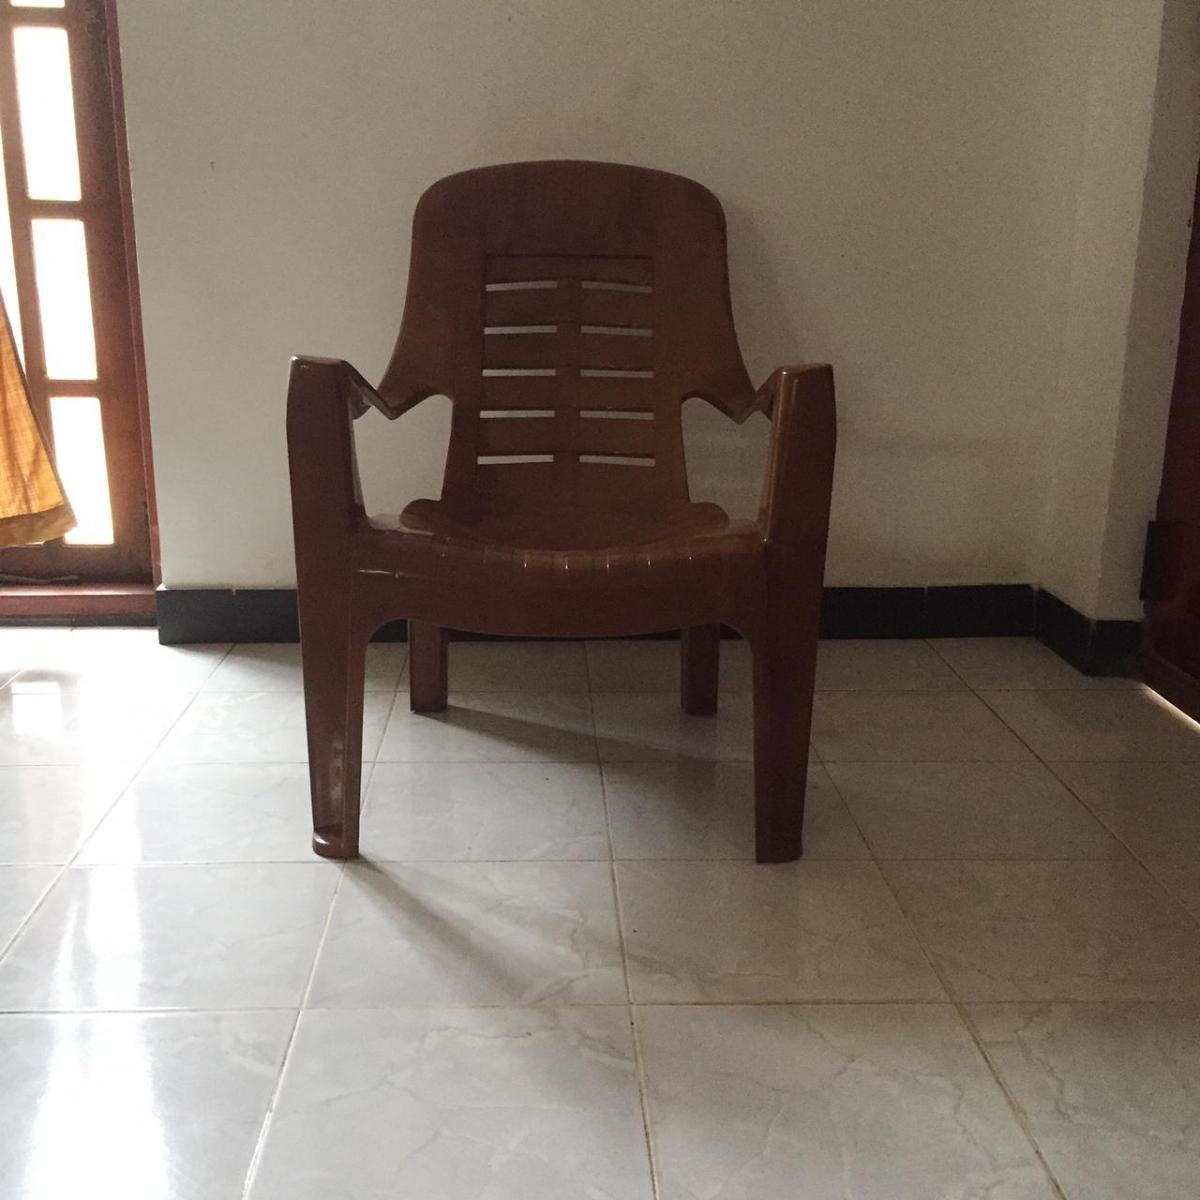Chair: (283, 157, 839, 867)
